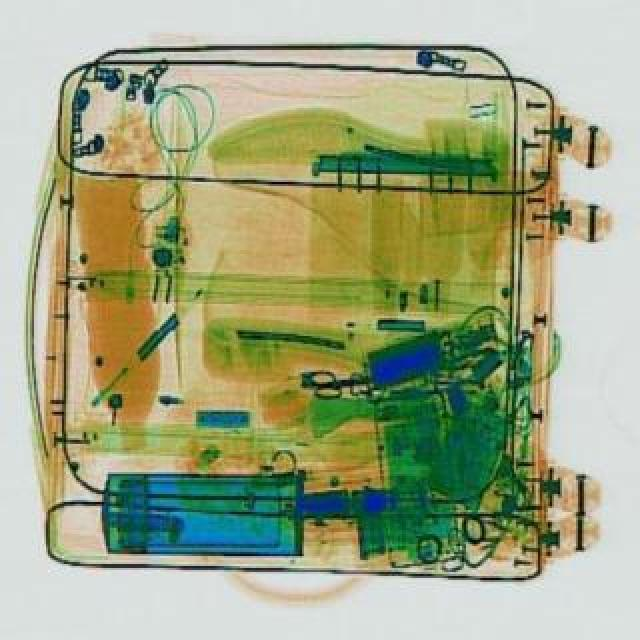pliers: (304, 360, 380, 396)
